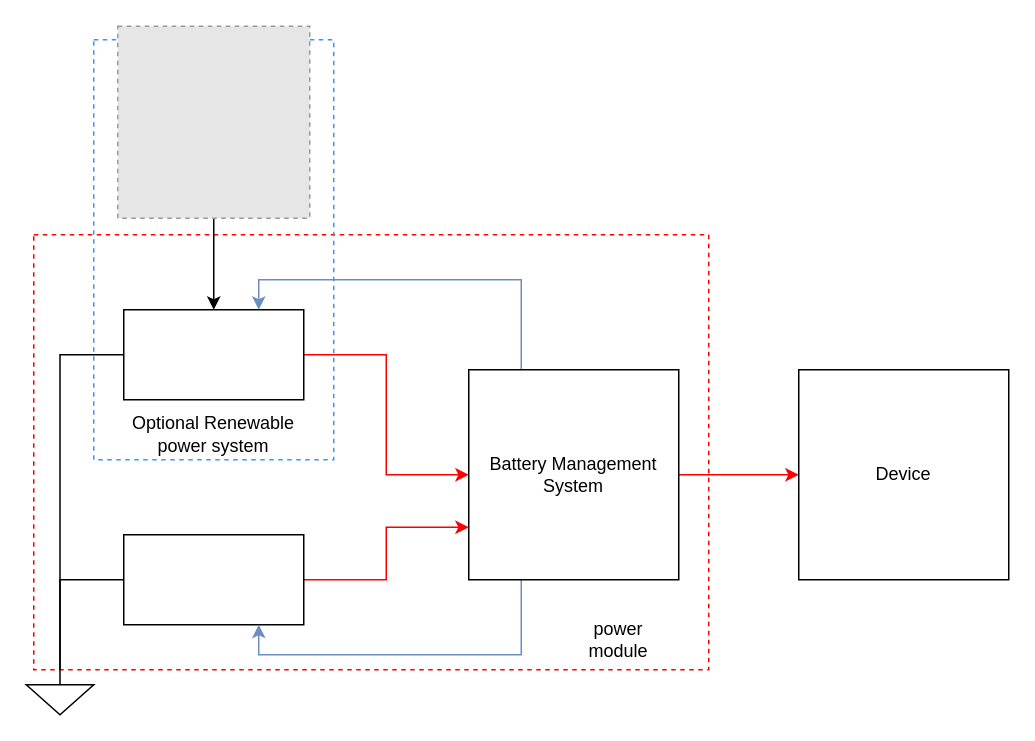
The diagram is 1035 pixels wide and 741 high, and some of its shapes have lost their labels. Grey dashed boxes stand in for pictures. Here are the shapes that lost their labels. From the top down, the box of each, then its label:
(122, 308, 304, 400): Rechargeable battery (secondary)
(122, 533, 304, 625): Non rechargeable battery (primary)
